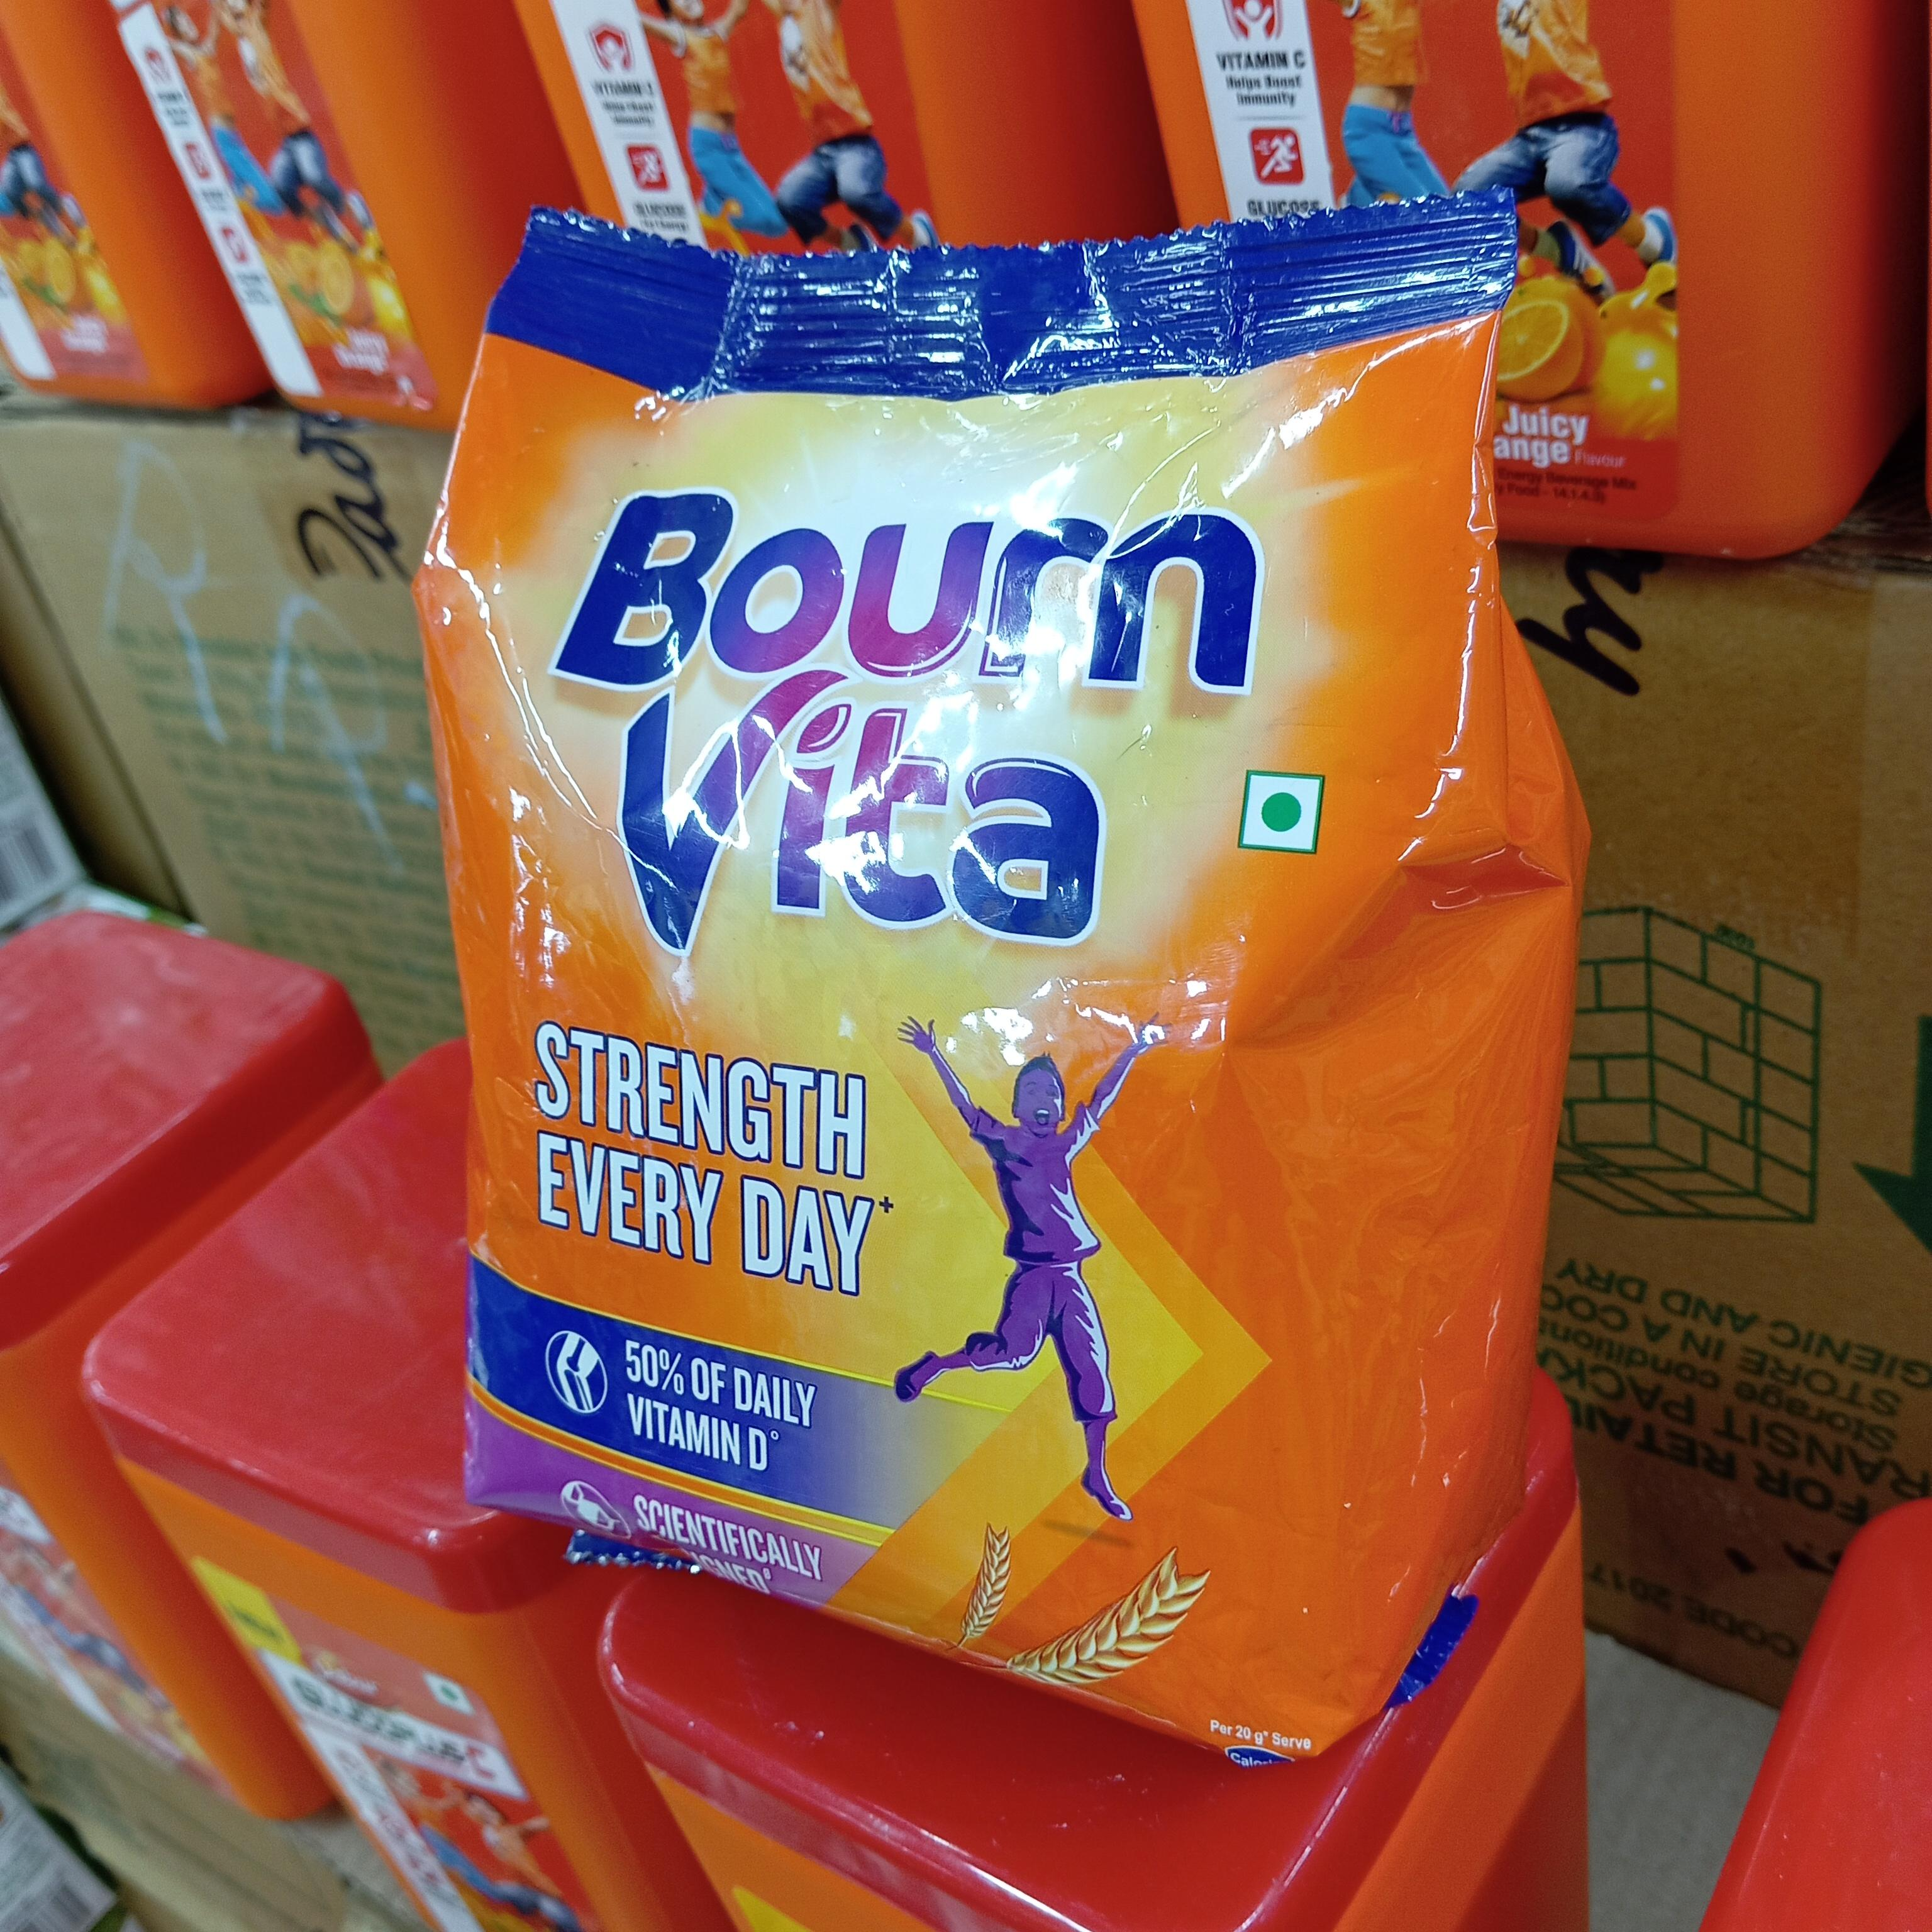BOURN_VITA_500_G_POUCH: (465, 195, 1440, 1707)
